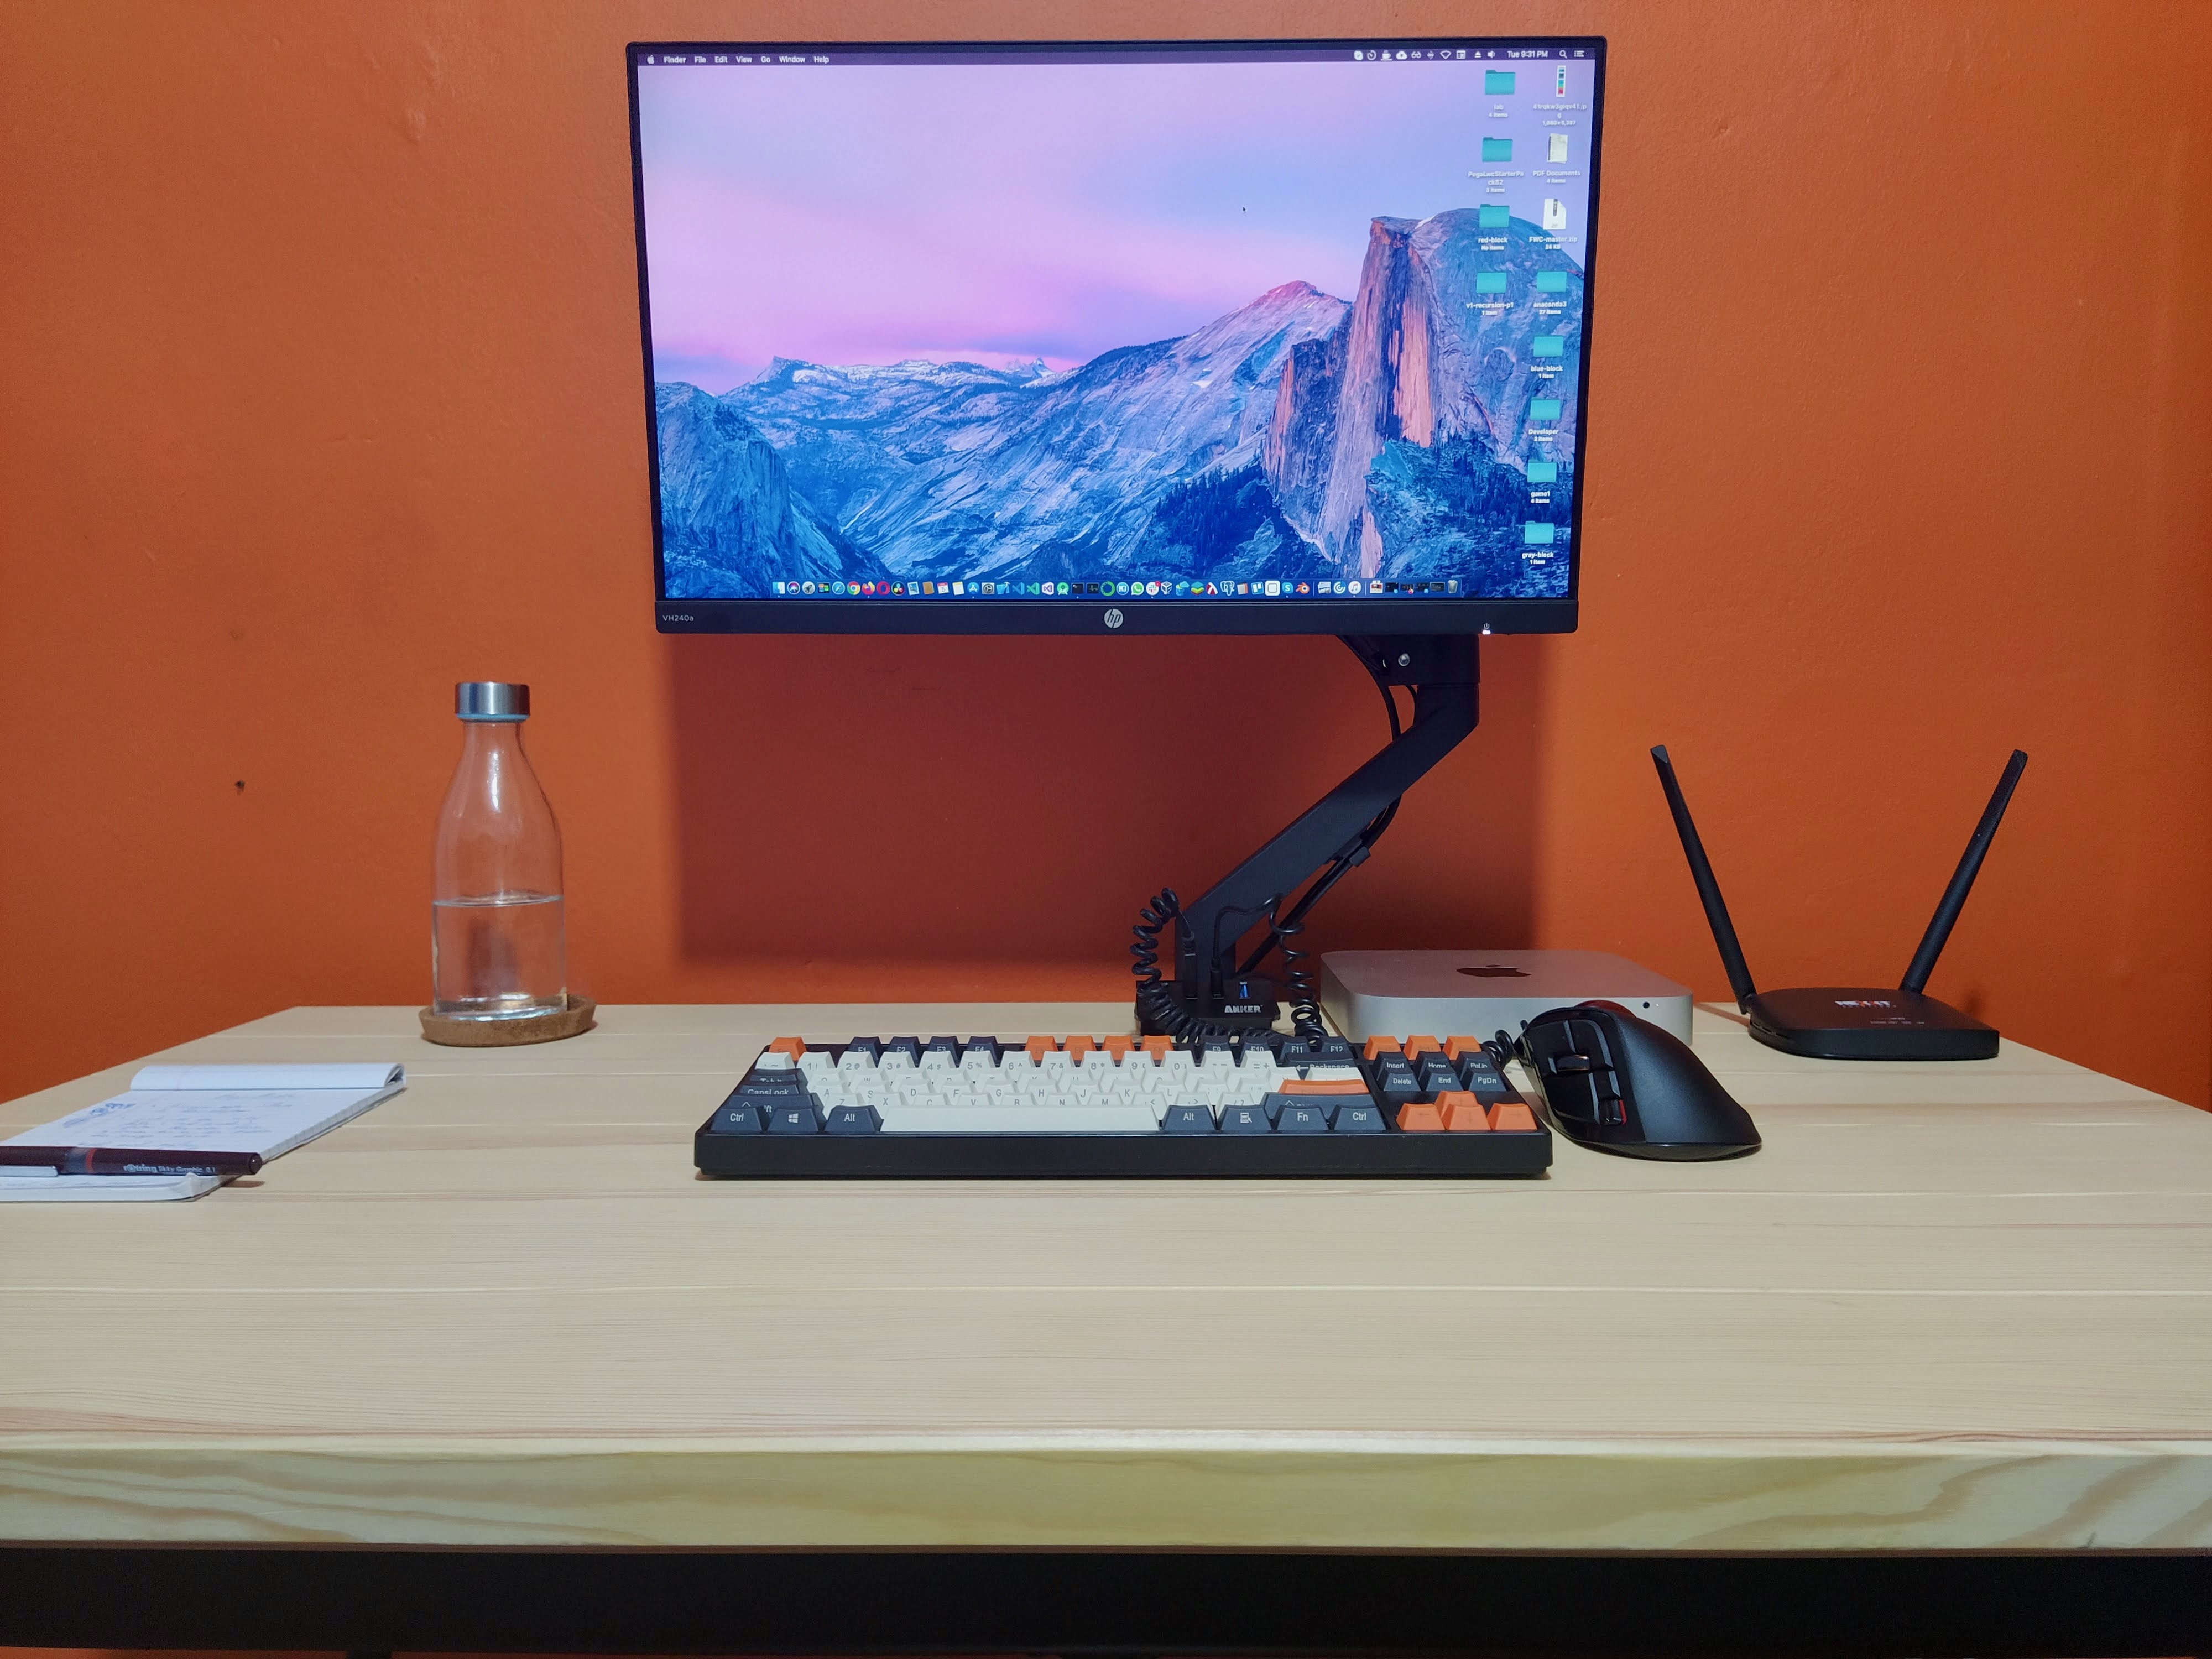Desk (Generic): (0, 936, 2210, 1568)
Desktop (OSX): (1310, 899, 1712, 1082)
Drink Coaster: (413, 983, 629, 1058)
Keyboard (Generic): (693, 1016, 1578, 1201)
Monitor (Landscape): (620, 33, 1601, 643)
Monitor Arm: (1143, 638, 1487, 1035)
Mouse (Gaming): (1510, 999, 1759, 1180)
Notebook: (0, 1049, 418, 1209)
Router: (1635, 711, 2060, 1077)
Water Bottle: (388, 662, 611, 1011)
